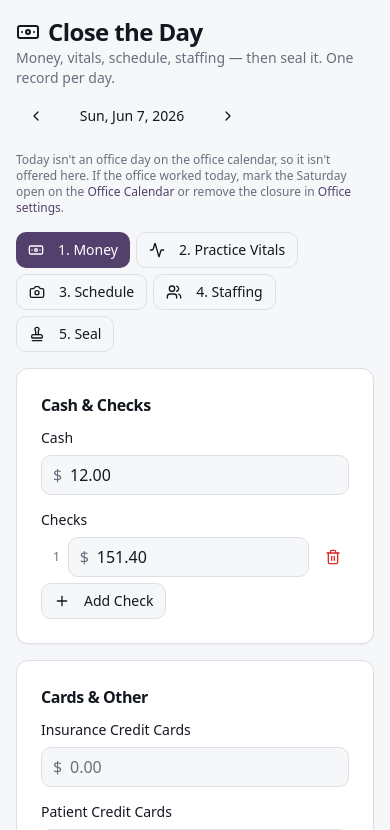
Scenario: Office days › never hides a day that holds a record
Check: the text "Sun, Jun 7, 2026" is shown, box x1=80 y1=106 x2=184 y2=125
Click the button named "Previous office day" at (36, 116), box x1=16 y1=96 x2=56 y2=136
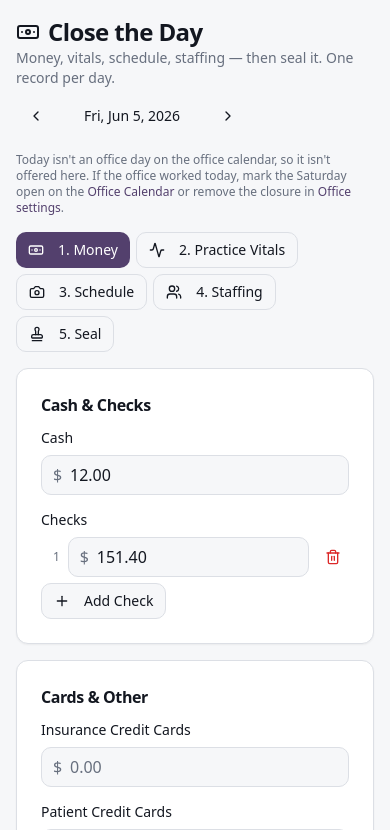
Check: the text "Fri, Jun 5, 2026" is shown, box x1=84 y1=106 x2=180 y2=125
Click the button named "Next office day" at (228, 116), box x1=208 y1=96 x2=248 y2=136
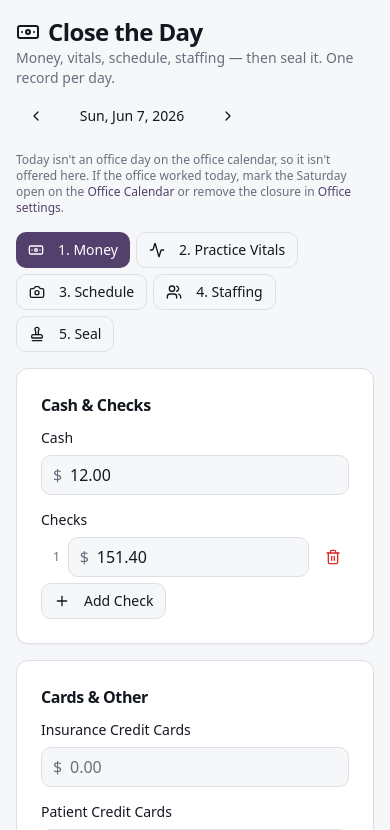
Check: the text "Sun, Jun 7, 2026" is shown, box x1=80 y1=106 x2=184 y2=125
